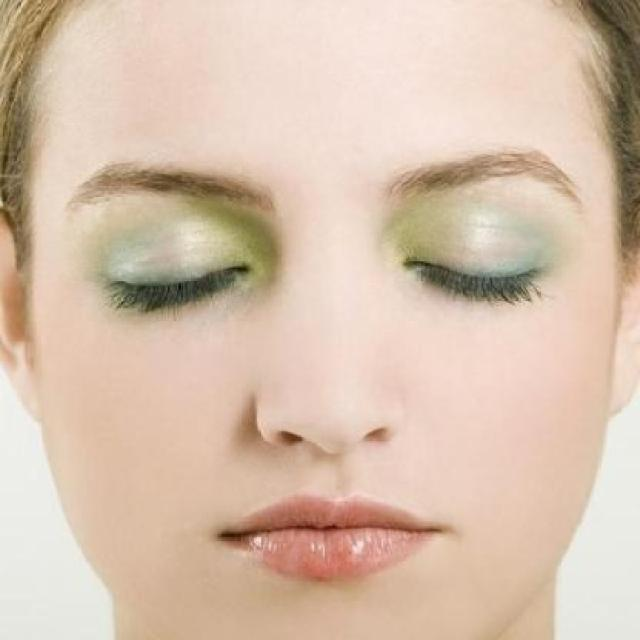drowsy: (94, 250, 252, 324), (401, 234, 545, 315)
